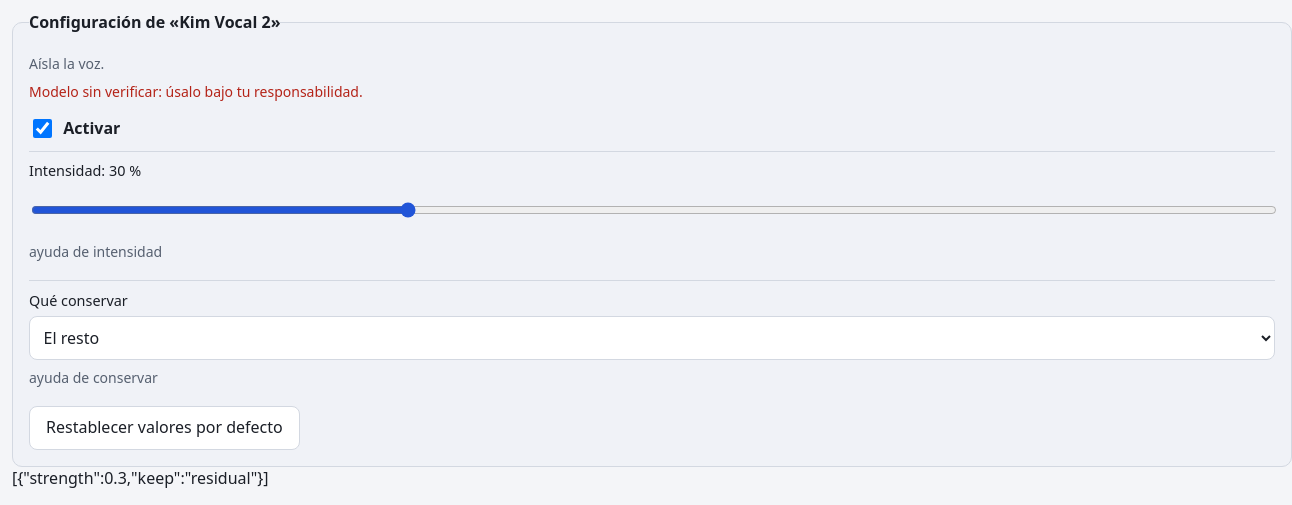
it: StageSettings › el slider de intensidad cambia el valor de ESA caja y «Restablecer» vuelve al valor por defecto
The width and height of the screenshot is (1292, 505).
Expected: the text "Intensidad: 30 %" is shown, [29,161,141,180]
Click the button "Restablecer valores por defecto": (164, 428) [29,406,300,450]
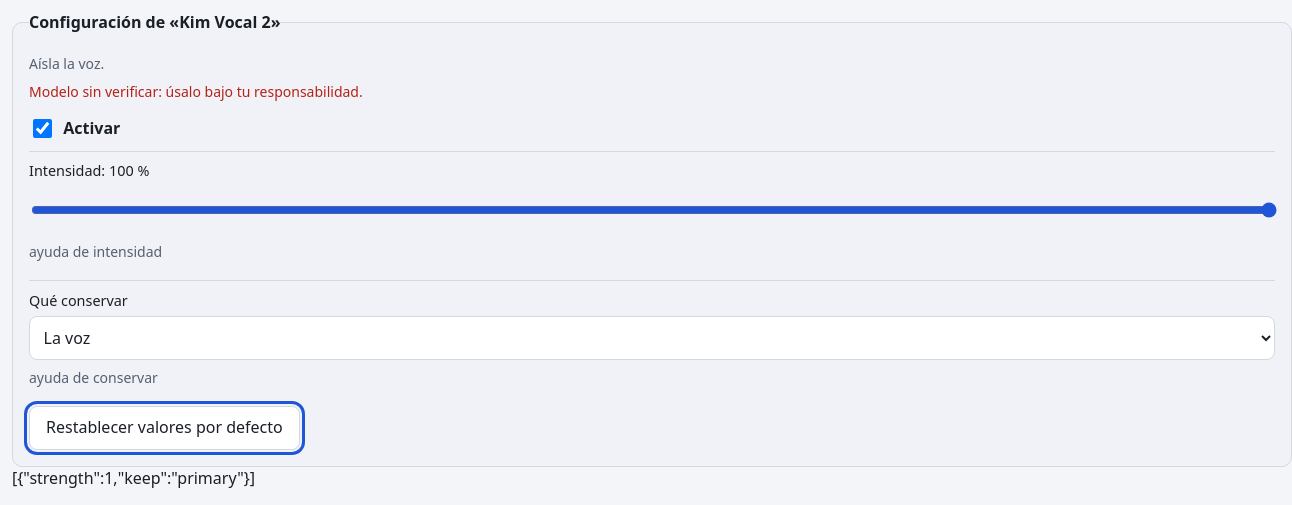
Now the text with test id "json" reads "[{\"strength\":1,\"keep\":\"primary\"}]", box [12,466,255,488]
